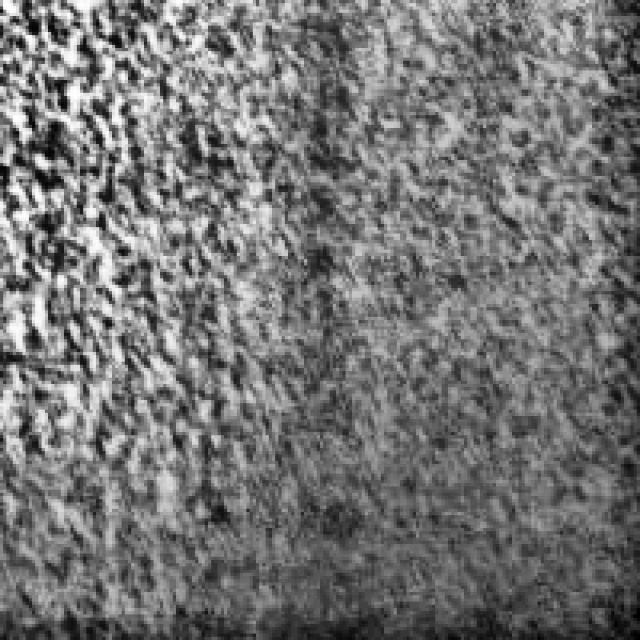Rolled_in_Scale: (3, 0, 624, 586)
